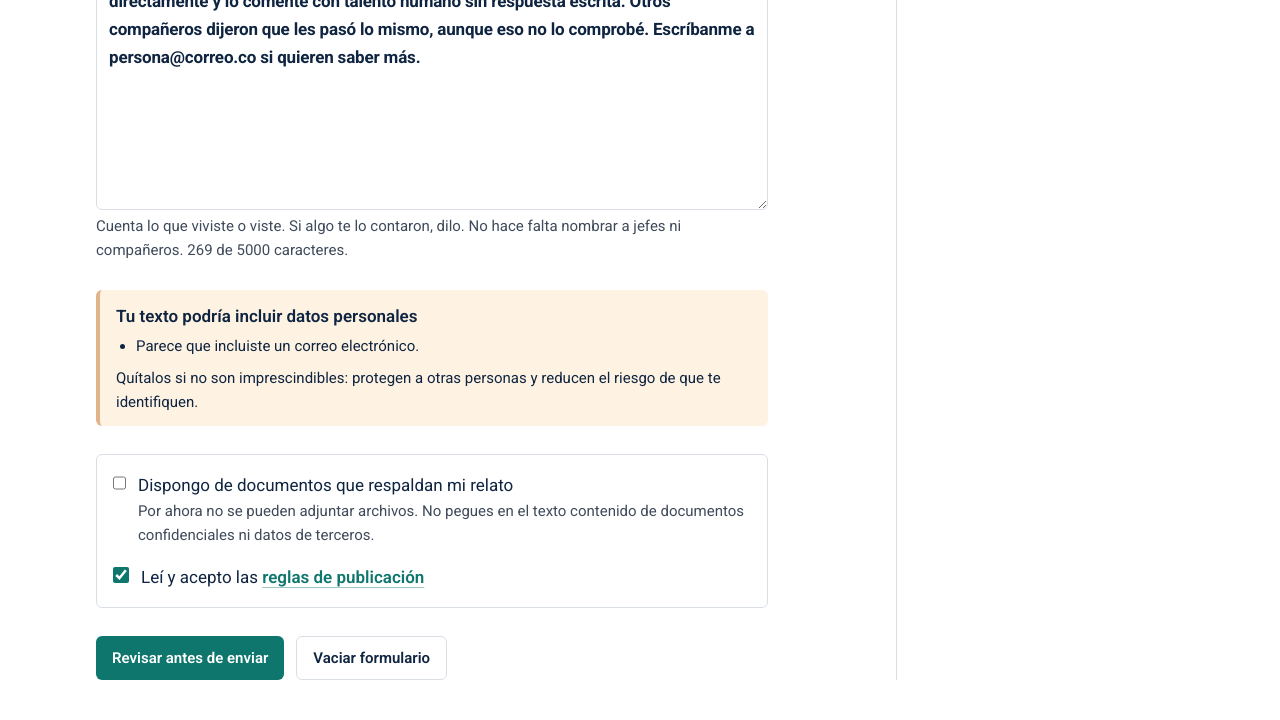
Scenario: compartir una experiencia › conserva el borrador si el envío falla
(page scrolled)
Step 1. Click the button "Revisar antes de enviar" → (190, 658), box [96,636,284,680]
(page scrolled)
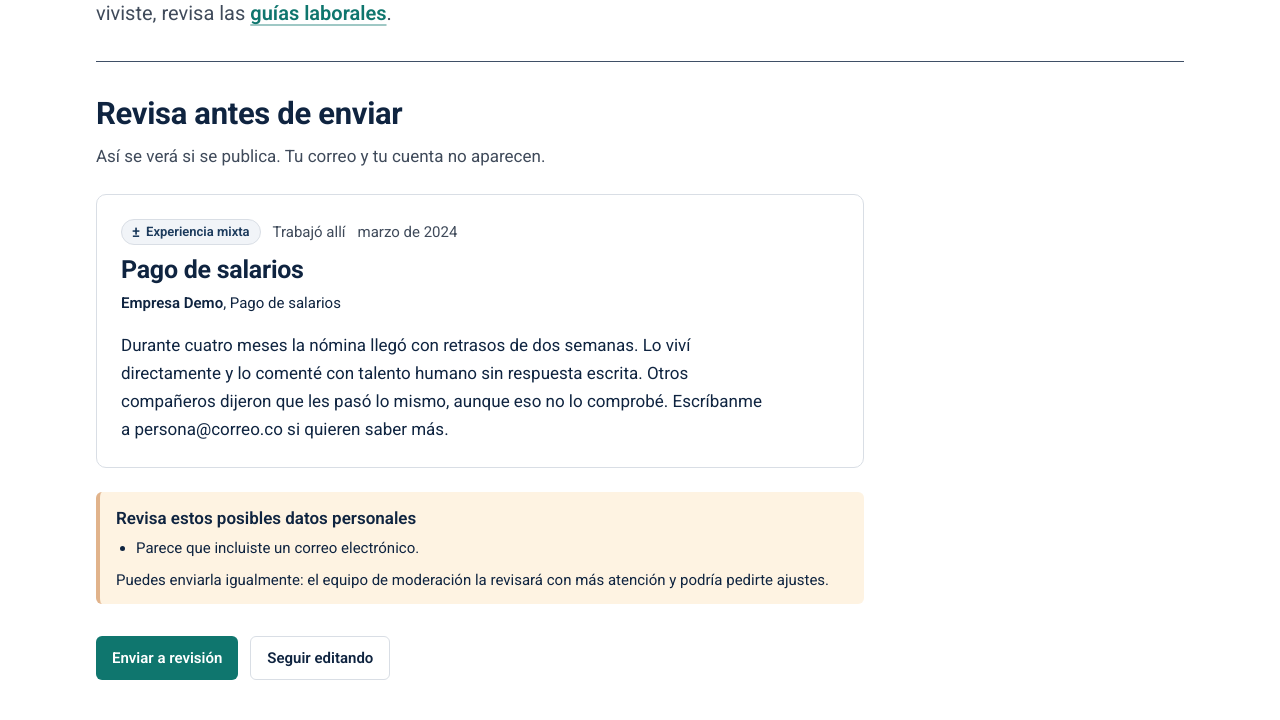
Step 2. Click the button "Enviar a revisión" → (167, 658), box [96,636,238,680]
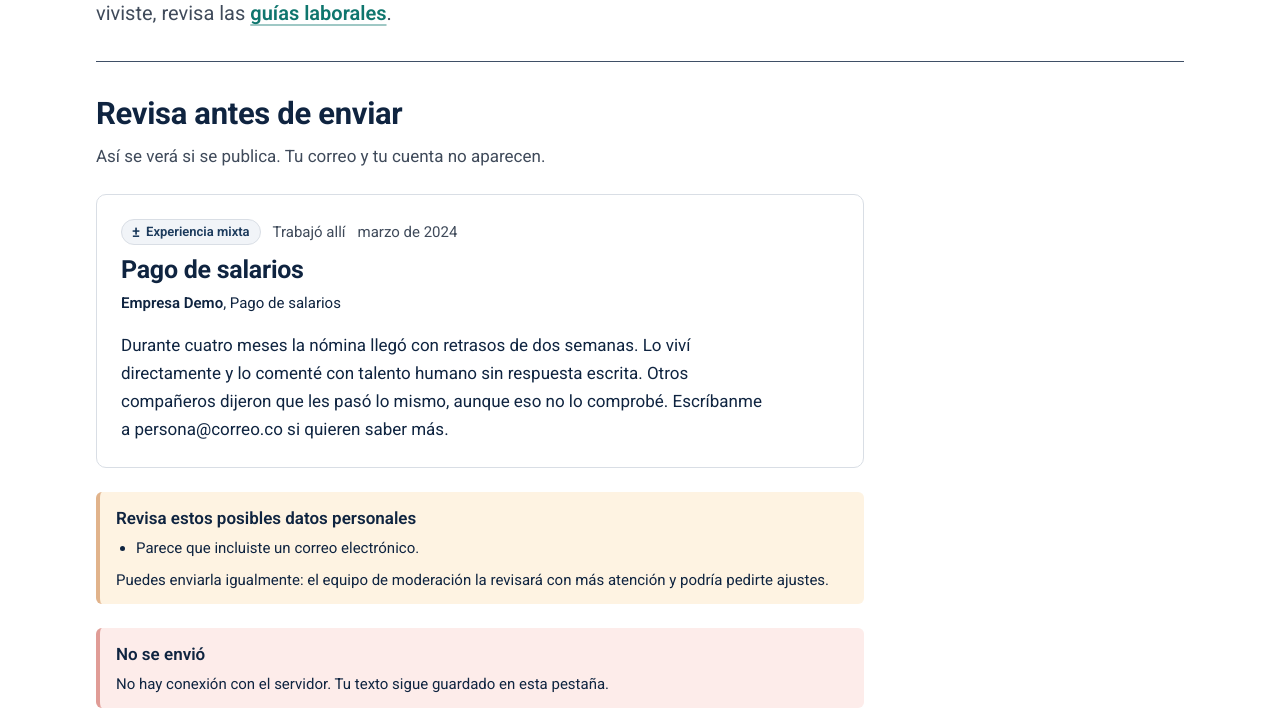
Check: the text "No hay conexión con el servidor" is shown, box [116,675,331,693]
